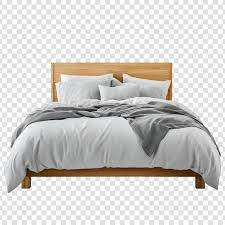bed-matress: (18, 99, 204, 170)
